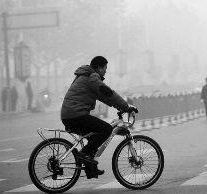person: (59, 53, 132, 180), (24, 80, 36, 111), (200, 78, 207, 116), (10, 85, 19, 112), (1, 87, 10, 113)
